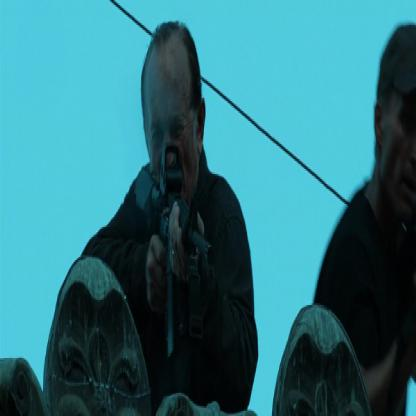Gun: (132, 141, 217, 356)
